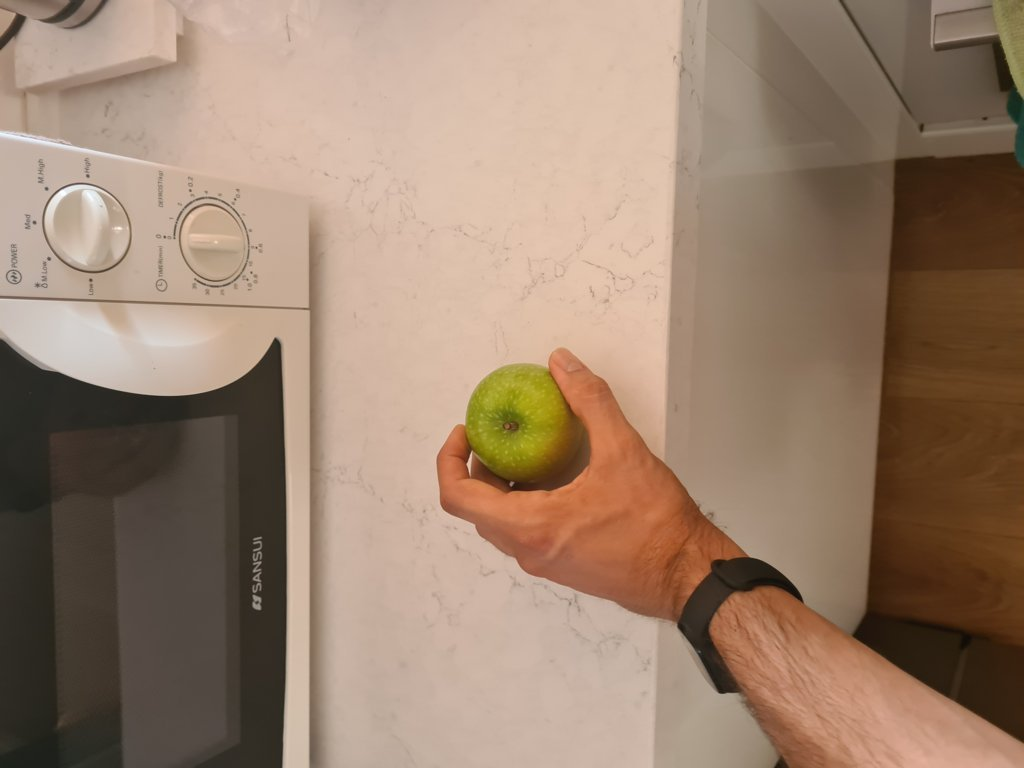apple: (456, 356, 597, 486)
